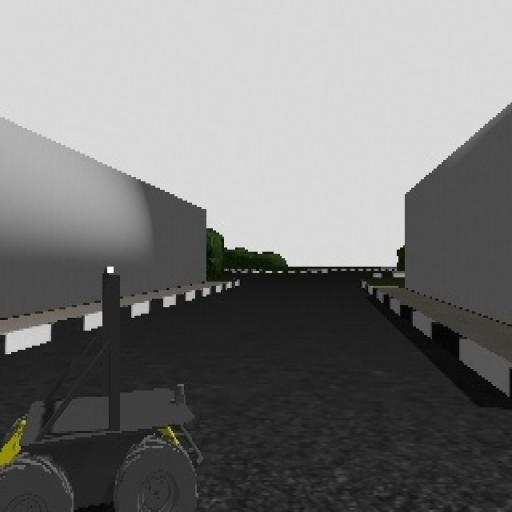huskya200: (0, 260, 213, 512)
